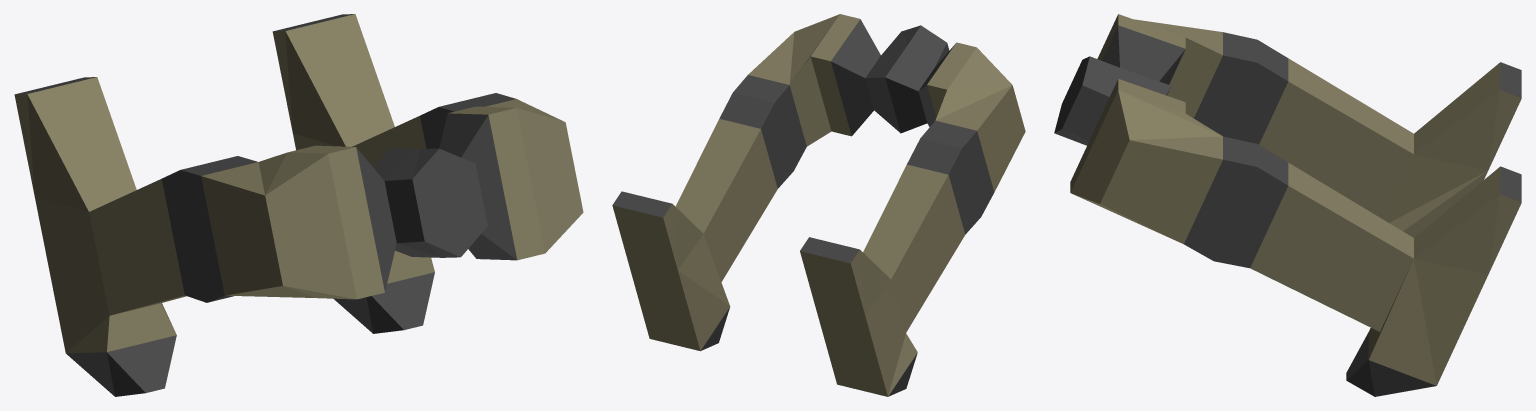
File: legs2-2.obj
3 views of the same model, side by side, from view 1: azimuth 30°, elevation 25°; view 2: azimuth 150°, elevation 25°; view 3: azimuth 270°, elevation 25° (orthographic). The views are drawn at different scales.
Visible parts, largest first — view 1: MechLegs2; view 2: MechLegs2; view 3: MechLegs2.
Boxes of the visible parts, <box> form: MechLegs2: <box>14,14,583,396</box>; MechLegs2: <box>612,14,1025,396</box>; MechLegs2: <box>1054,14,1521,396</box>.
Size of the model in its own units: 4.2 by 4.19 by 6.26.
Materials: 1 (1 with a texture image).
